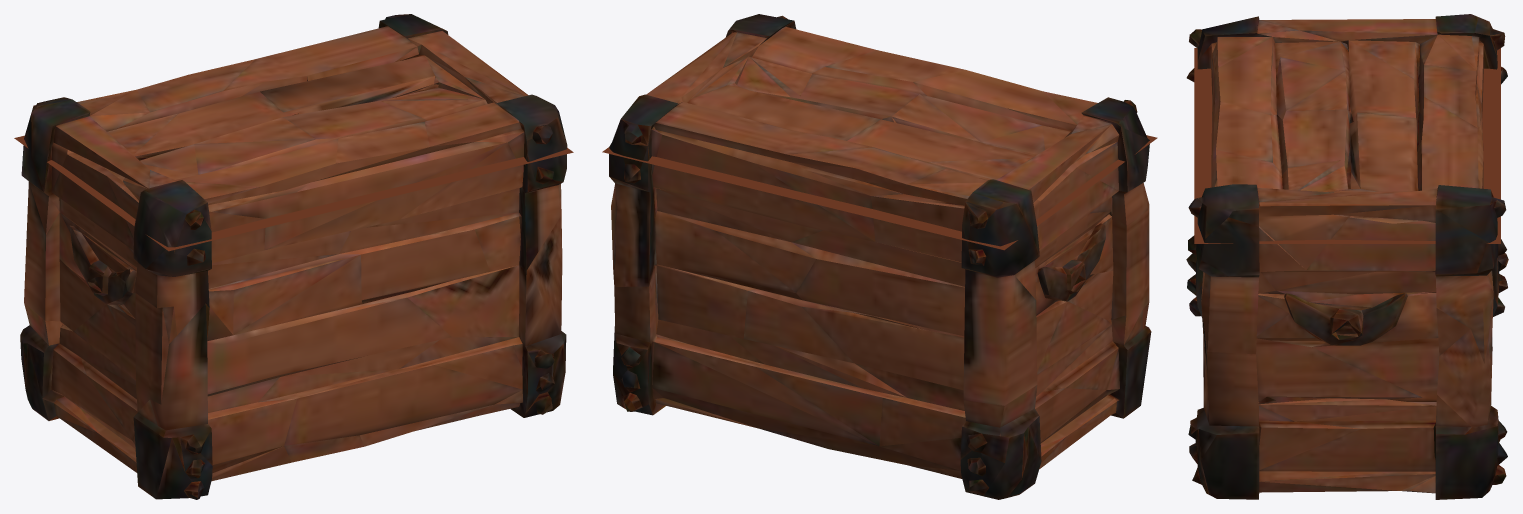
The model's file is crate.lod1.glb.
The picture shows the model from 3 angles, left to right: view 1: azimuth 30°, elevation 25°; view 2: azimuth 150°, elevation 25°; view 3: azimuth 270°, elevation 25°; orthographic projection.
Parts seen in each view (by area): view 1: Frame, Lid; view 2: Frame, Lid; view 3: Frame, Lid.
Boxes of the visible parts, x1,y1,x2,y2 form: Frame: (20, 145, 566, 499); Lid: (14, 14, 573, 251); Frame: (609, 144, 1151, 499); Lid: (602, 14, 1157, 250); Frame: (1186, 66, 1508, 499); Lid: (1188, 14, 1506, 244).
Bounding box in the file's own units: 0.8058 × 0.55 × 0.5457.
Materials: 1 (1 with a texture image).
